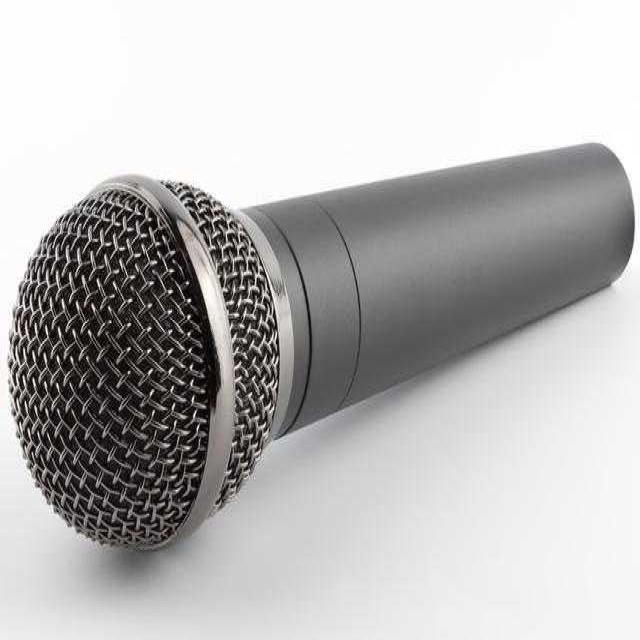microphone: (7, 133, 640, 563)
